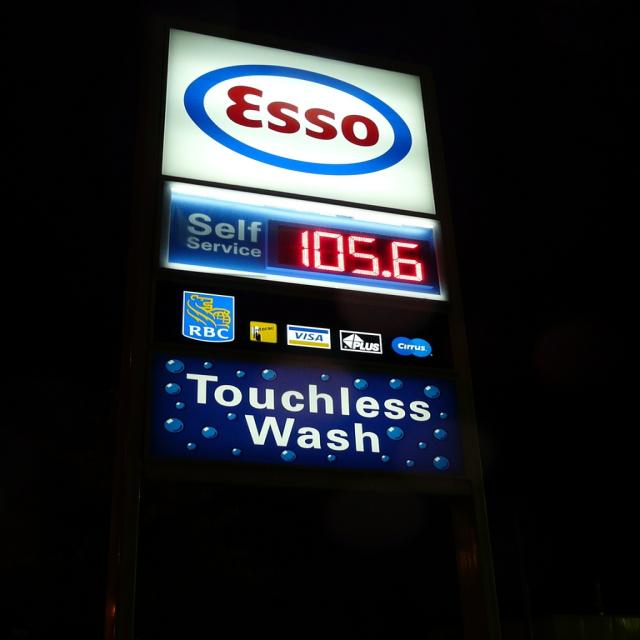esso: (176, 61, 423, 181)
